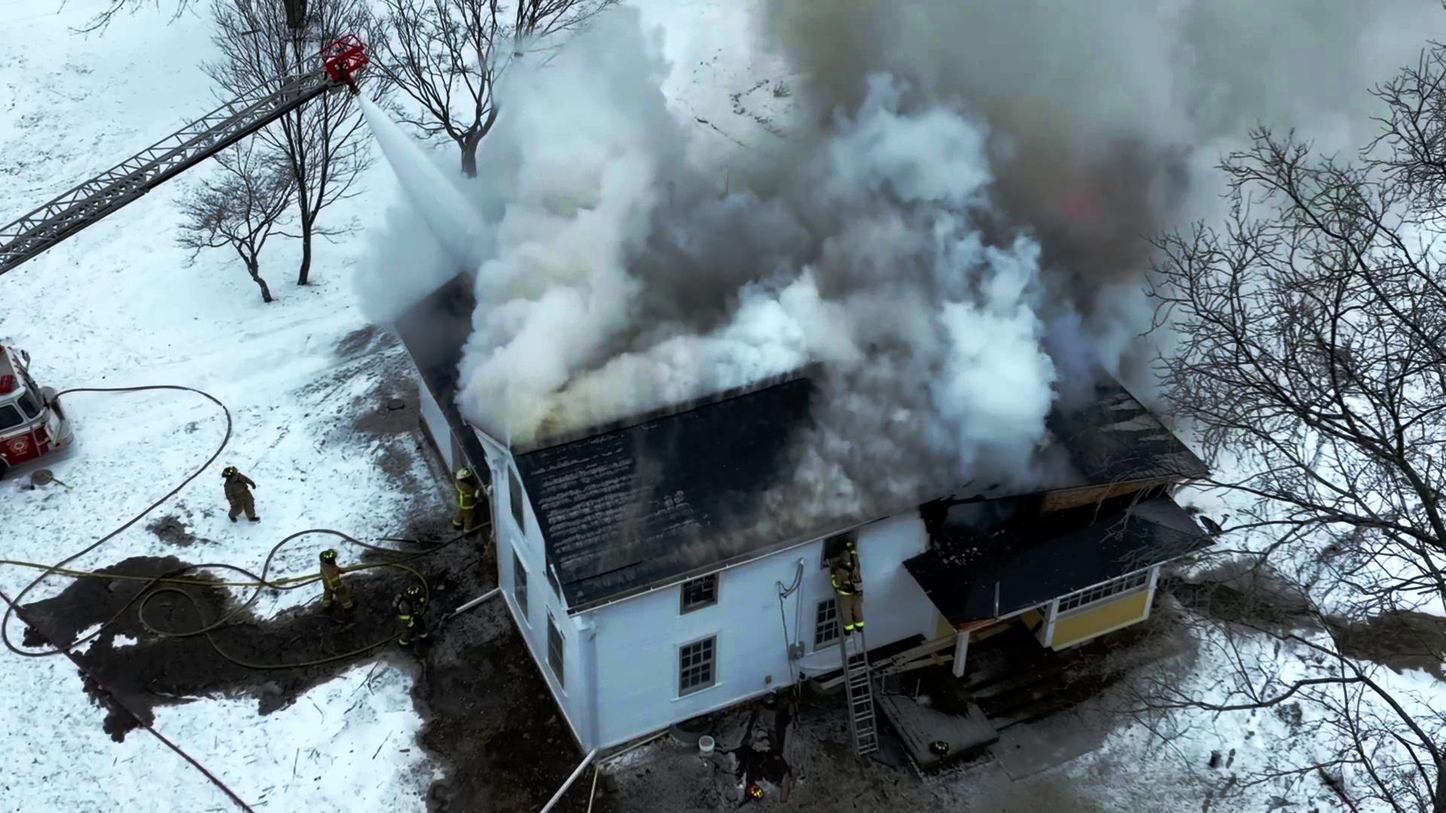smoke: (627, 21, 1191, 250), (535, 228, 983, 384)
